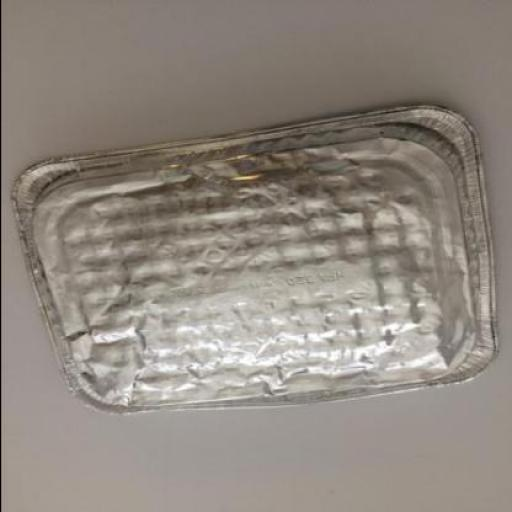metal: (6, 105, 500, 418)
